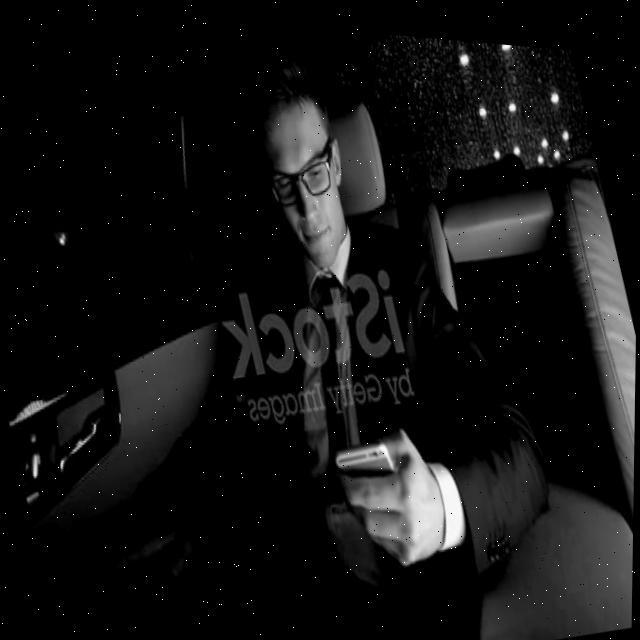PhoneCall: (334, 429, 416, 554)
